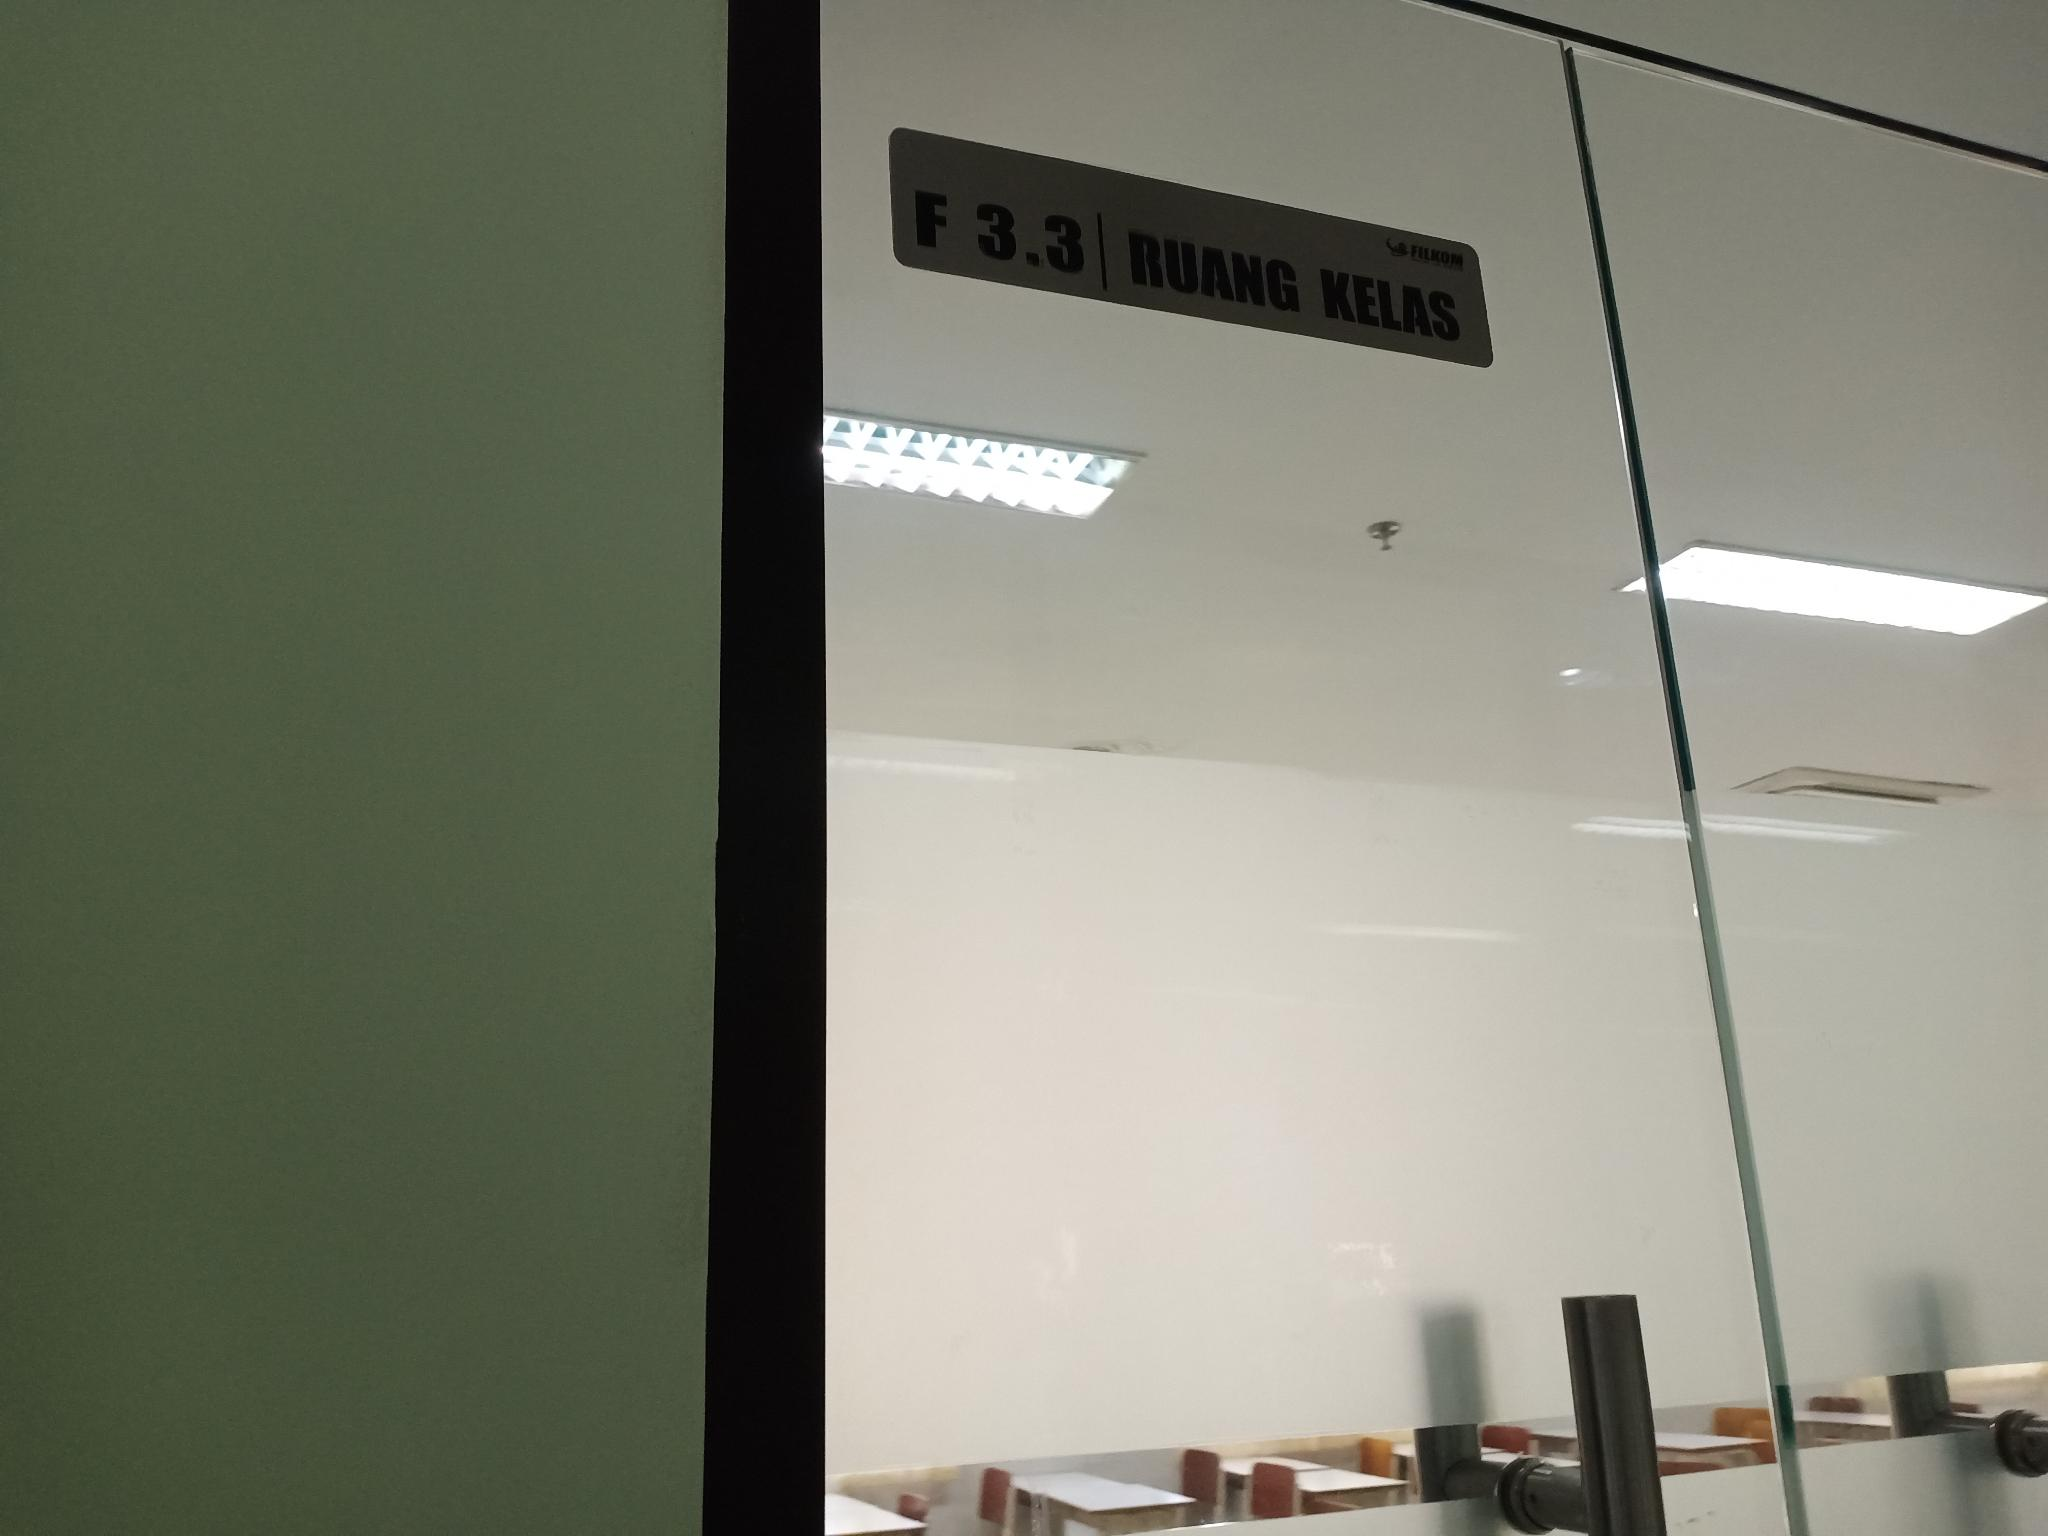plate: (889, 124, 1493, 369)
